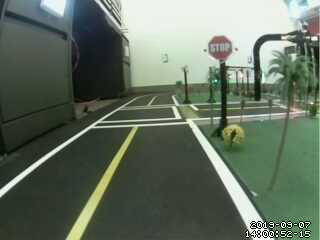Stop_Sign: (205, 33, 237, 68)
